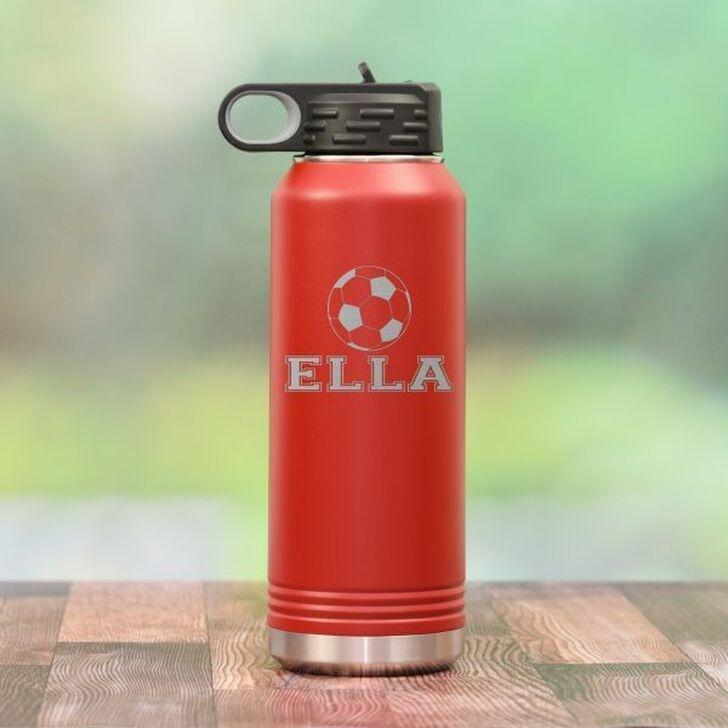gym bottle: (217, 61, 471, 680)
